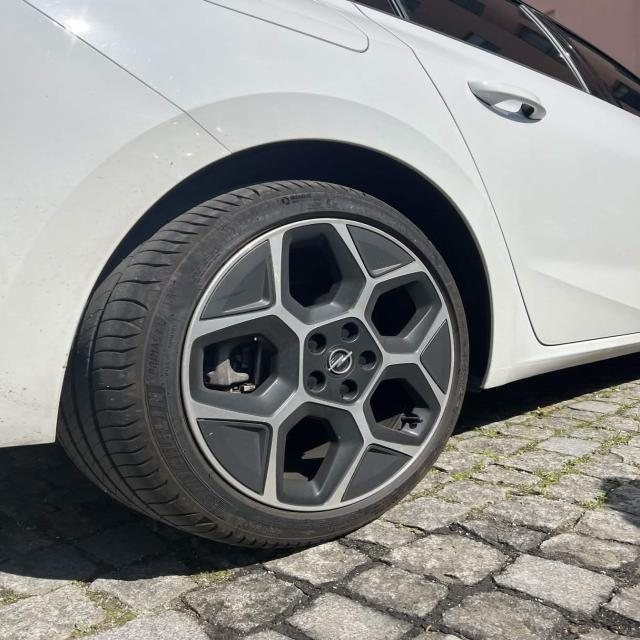jante: (178, 216, 455, 512)
parafuso: (337, 378, 361, 404), (302, 334, 330, 356), (306, 367, 327, 396), (355, 350, 381, 373), (336, 323, 363, 345)
roda: (55, 175, 470, 548)
